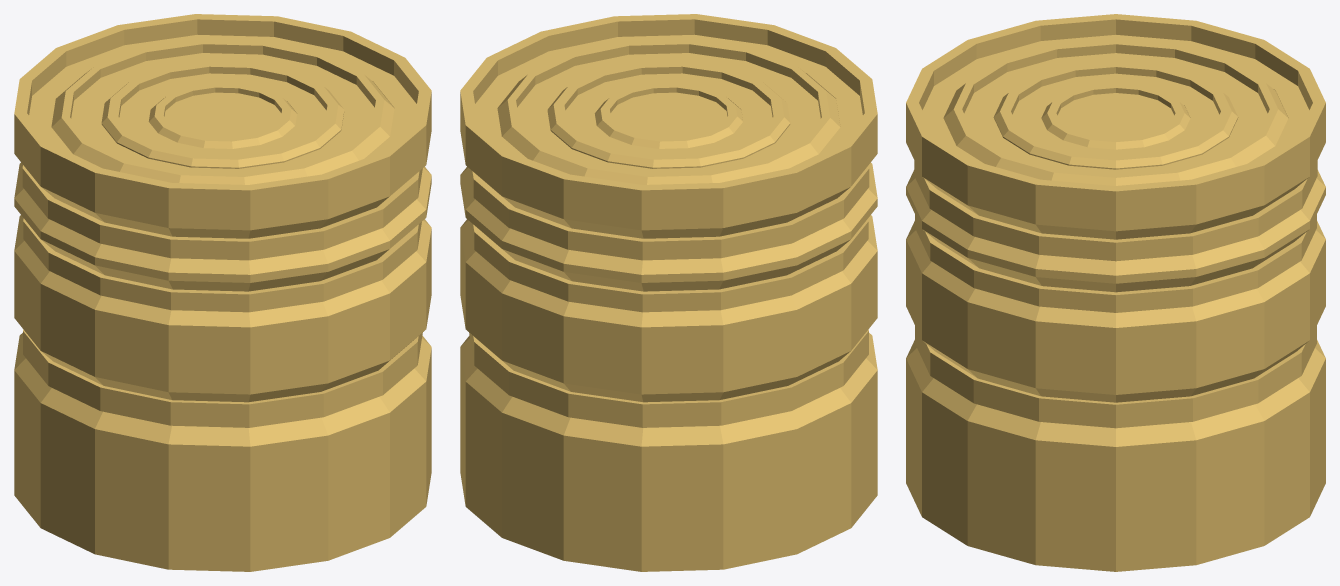
The model's file is tin_can.glb.
3 views of the same model, side by side, from view 1: azimuth 30°, elevation 25°; view 2: azimuth 150°, elevation 25°; view 3: azimuth 270°, elevation 25° (orthographic).
Parts seen in each view (by area): view 1: mesh; view 2: mesh; view 3: mesh.
Boxes of the visible parts, box(x1,y1,x2,y2) form: mesh: box(14, 14, 431, 571); mesh: box(460, 14, 877, 571); mesh: box(906, 14, 1325, 571).
Size of the model in its own units: 0.15 by 0.15 by 0.15.
